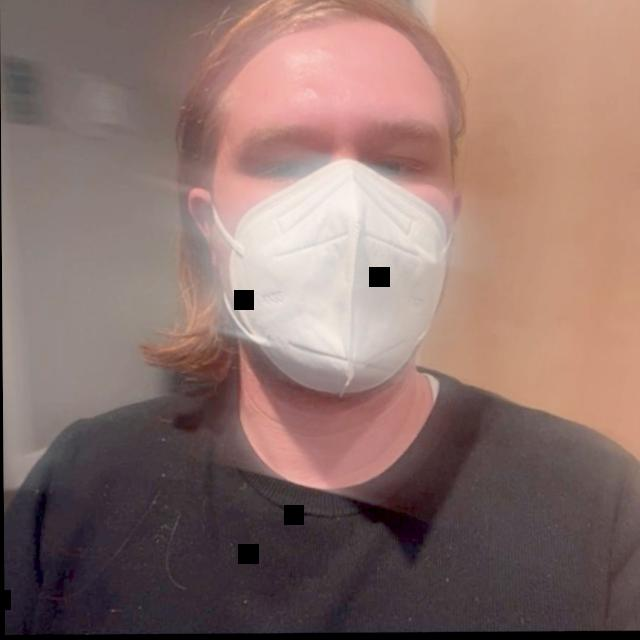Mask: (147, 0, 485, 400)
